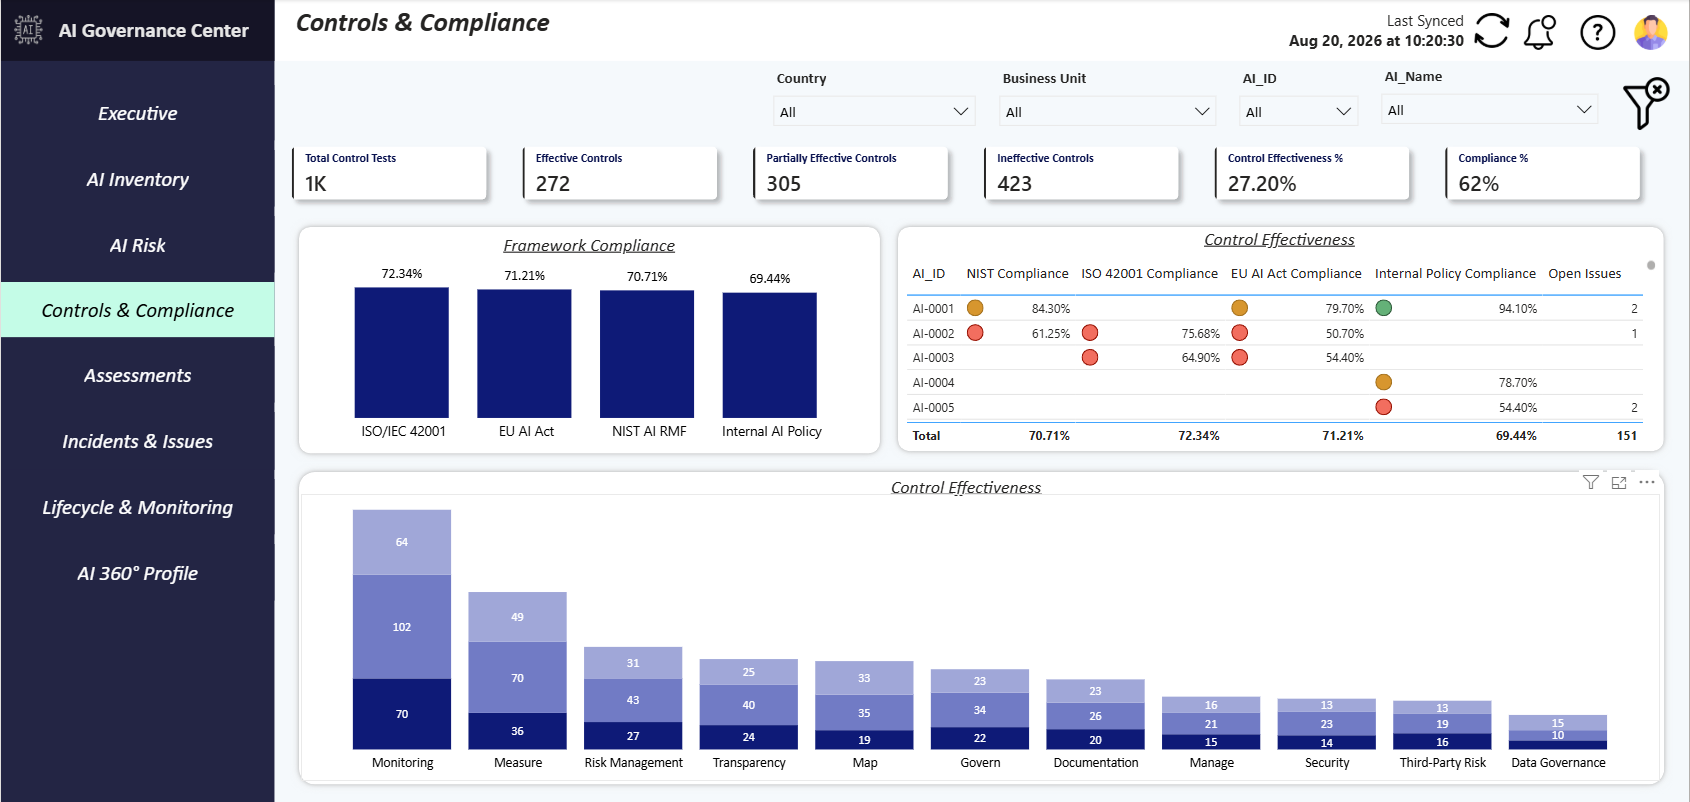

This screenshot's page, from the dashboard's own definition file:
{"tool":"powerbi","page":{"name":"Controls & Compliance","canvas":[1500,715],"ordinal":3},"visuals":[{"type":"shape","box":[0,0,1500,720.5],"z":0},{"type":"shape","box":[0,0,243.4,715.7],"z":1000},{"type":"shape","box":[0,0,243.4,55.2],"z":2000},{"type":"shape","box":[243.4,0,1256.6,55.2],"z":3000},{"type":"textbox","box":[46,10.2,186.1,33.7],"z":4000},{"type":"image","box":[1446.8,14.3,39.5,31.1],"z":5000},{"type":"image","box":[1347.6,14.3,38.6,31.1],"z":6000},{"type":"textbox","box":[256.5,0,430.2,61],"z":7000},{"type":"cardVisual","fields":{"Data":["_Measures.Total Control Tests","_Measures.Effective Controls","_Measures.Partially Effective Controls","_Measures.Ineffective Controls","_Measures.Control Effectiveness %","_Measures.Compliance %"]},"box":[229,102.2,1257.7,105.3],"z":8000},{"type":"slicer","fields":{"Values":["AI_Inventory.Country"]},"box":[676.3,57.1,199.6,69.7],"z":9000},{"type":"slicer","fields":{"Values":["AI_Inventory.Business_Unit"]},"box":[876.9,56.6,213.1,70.4],"z":10000},{"type":"shape","box":[256.8,194.4,532.2,217.3],"z":11000},{"type":"textbox","box":[426.2,203.7,192.4,38],"z":12000},{"type":"shape","box":[789,194.4,696.5,215.2],"z":13000},{"type":"textbox","box":[1018.7,198.5,235.4,37.7],"z":14000},{"type":"shape","box":[256.4,412.6,1229.2,293.7],"z":15000},{"type":"textbox","box":[745,418.3,226,38],"z":16000},{"type":"image","box":[9.2,14.3,30.7,25.6],"z":17000},{"type":"image","box":[1399.8,14.3,39,31],"z":18000},{"type":"textbox","box":[1100.7,5.1,204.2,44.9],"z":19000},{"type":"image","box":[1305,12.3,39,31],"z":20000},{"type":"shape","box":[0,76.2,242.9,49.5],"z":21000},{"type":"shape","box":[0,484,243,50],"z":22000},{"type":"shape","box":[0,426.5,243,49],"z":23000},{"type":"shape","box":[0,192.6,243,50],"z":24000},{"type":"shape","box":[0,367,243,51.1],"z":25000},{"type":"shape","box":[0,308.5,243,50],"z":26000},{"type":"shape","box":[0,251.1,243,49],"z":27000},{"type":"shape","box":[0,134.1,243,50],"z":28000},{"type":"columnChart","fields":{"Category":["Fact_Compliance.Framework"],"Y":["_Measures.Avg Compliance Score"]},"box":[266.1,220.4,511.4,181.9],"z":29000},{"type":"image","box":[1439,68,46.8,49.5],"z":30000},{"type":"tableEx","fields":{"Values":["AI_Inventory.AI_ID","_Measures.NIST Compliance","_Measures.ISO 42001 Compliance","_Measures.EU AI Act Compliance","_Measures.Internal Policy Compliance","_Measures.Open Issues"]},"box":[798.6,226.6,676.8,175.6],"z":31000},{"type":"columnChart","fields":{"Category":["Dim_Control.Control_Area"],"Series":["Fact_Control_Test.Control_Status"],"Y":["CountNonNull(Fact_Control_Test.Test_ID)"]},"box":[266.5,439.8,1207.7,255],"z":32000},{"type":"slicer","fields":{"Values":["AI_Inventory.AI_ID"]},"box":[1090,57.1,125.6,70.4],"z":33000},{"type":"slicer","fields":{"Values":["AI_Inventory.AI_Name"]},"box":[1216.6,55.2,213.1,70.4],"z":34000}]}

Visuals, with their boxes on the page's 1500x715 design canvas (x1, y1, x2, y2). These are canvas units, not pixel positions in the 1690x802 screenshot, which may show the page scaled, cropped or inside an application window:
shape: (left=0, top=0, right=1500, bottom=720)
shape: (left=0, top=0, right=243, bottom=716)
shape: (left=0, top=0, right=243, bottom=55)
shape: (left=243, top=0, right=1500, bottom=55)
textbox: (left=46, top=10, right=232, bottom=44)
image: (left=1447, top=14, right=1486, bottom=45)
image: (left=1348, top=14, right=1386, bottom=45)
textbox: (left=256, top=0, right=687, bottom=61)
cardVisual - _Measures.Total Control Tests x _Measures.Effective Controls: (left=229, top=102, right=1487, bottom=208)
slicer - AI_Inventory.Country: (left=676, top=57, right=876, bottom=127)
slicer - AI_Inventory.Business_Unit: (left=877, top=57, right=1090, bottom=127)
shape: (left=257, top=194, right=789, bottom=412)
textbox: (left=426, top=204, right=619, bottom=242)
shape: (left=789, top=194, right=1486, bottom=410)
textbox: (left=1019, top=198, right=1254, bottom=236)
shape: (left=256, top=413, right=1486, bottom=706)
textbox: (left=745, top=418, right=971, bottom=456)
image: (left=9, top=14, right=40, bottom=40)
image: (left=1400, top=14, right=1439, bottom=45)
textbox: (left=1101, top=5, right=1305, bottom=50)
image: (left=1305, top=12, right=1344, bottom=43)
shape: (left=0, top=76, right=243, bottom=126)
shape: (left=0, top=484, right=243, bottom=534)
shape: (left=0, top=426, right=243, bottom=476)
shape: (left=0, top=193, right=243, bottom=243)
shape: (left=0, top=367, right=243, bottom=418)
shape: (left=0, top=308, right=243, bottom=358)
shape: (left=0, top=251, right=243, bottom=300)
shape: (left=0, top=134, right=243, bottom=184)
columnChart - Fact_Compliance.Framework x _Measures.Avg Compliance Score: (left=266, top=220, right=778, bottom=402)
image: (left=1439, top=68, right=1486, bottom=118)
tableEx - AI_Inventory.AI_ID x _Measures.NIST Compliance: (left=799, top=227, right=1475, bottom=402)
columnChart - Dim_Control.Control_Area x Fact_Control_Test.Control_Status: (left=266, top=440, right=1474, bottom=695)
slicer - AI_Inventory.AI_ID: (left=1090, top=57, right=1216, bottom=128)
slicer - AI_Inventory.AI_Name: (left=1217, top=55, right=1430, bottom=126)
